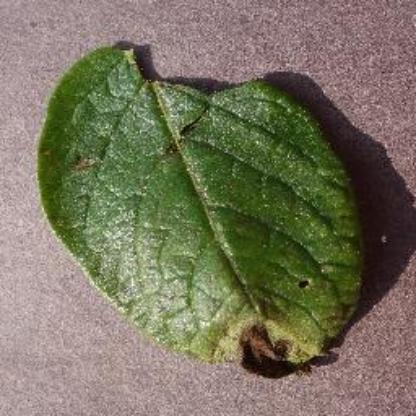Late-Blight: (15, 30, 389, 386)
